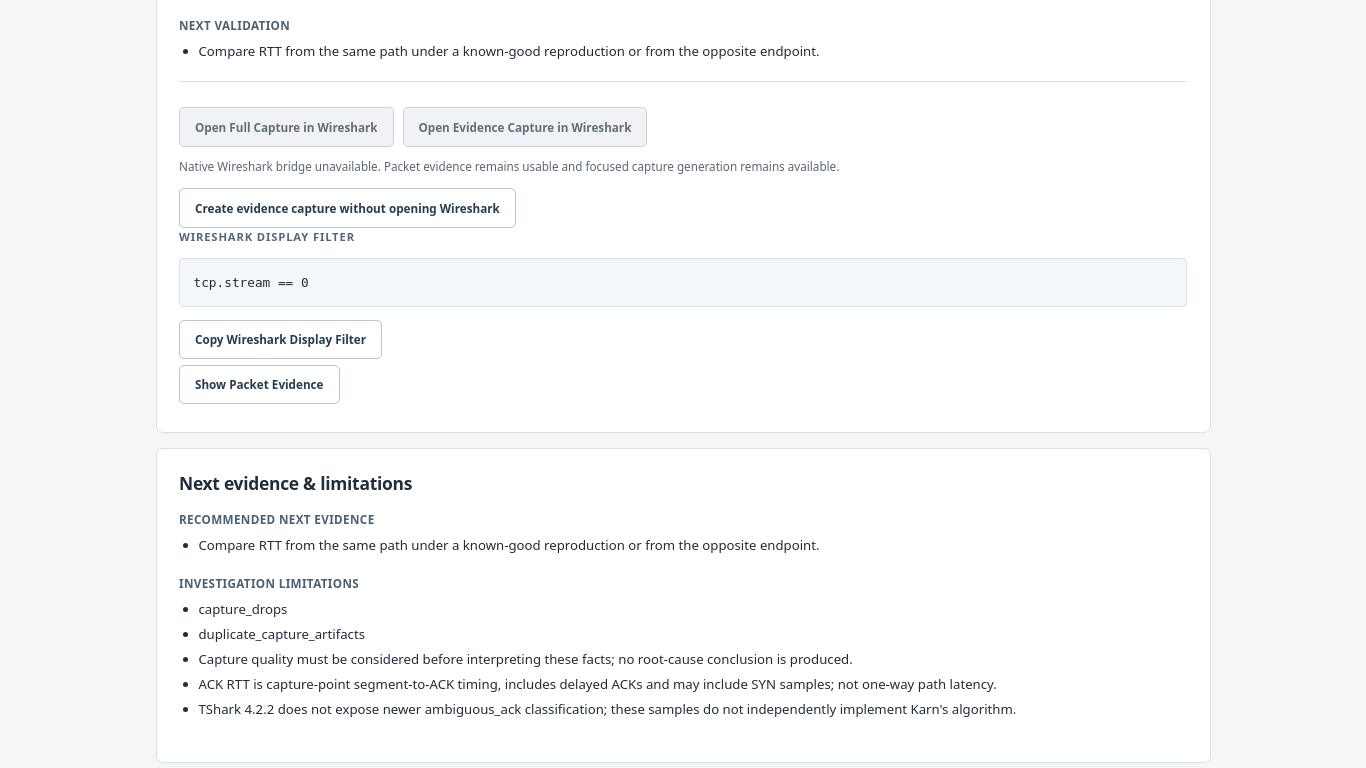
Test: evidence and uncertainty presentation › shows normalized evidence, tool version, and scope in a secondary drawer
(page scrolled)
Step 1. Click the button "Show Packet Evidence" → (259, 384), box left=179, top=364, right=340, bottom=404
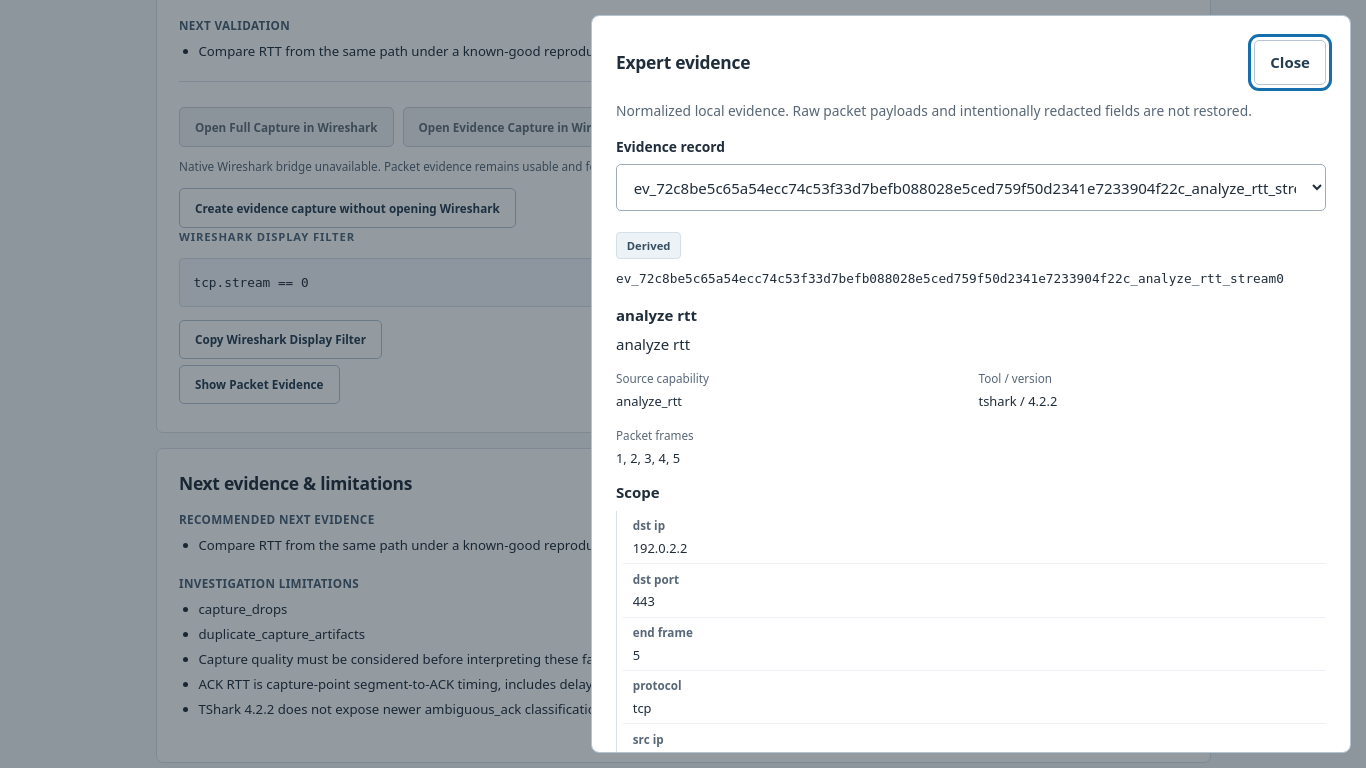
Expected: the text "Tool / version" is shown, left=978, top=370, right=1052, bottom=386
Expected: the heading "Scope" is shown, left=616, top=482, right=660, bottom=502
Step 2. Click the button with aria-label "Close expert evidence" → (1290, 62), box left=1254, top=40, right=1326, bottom=85
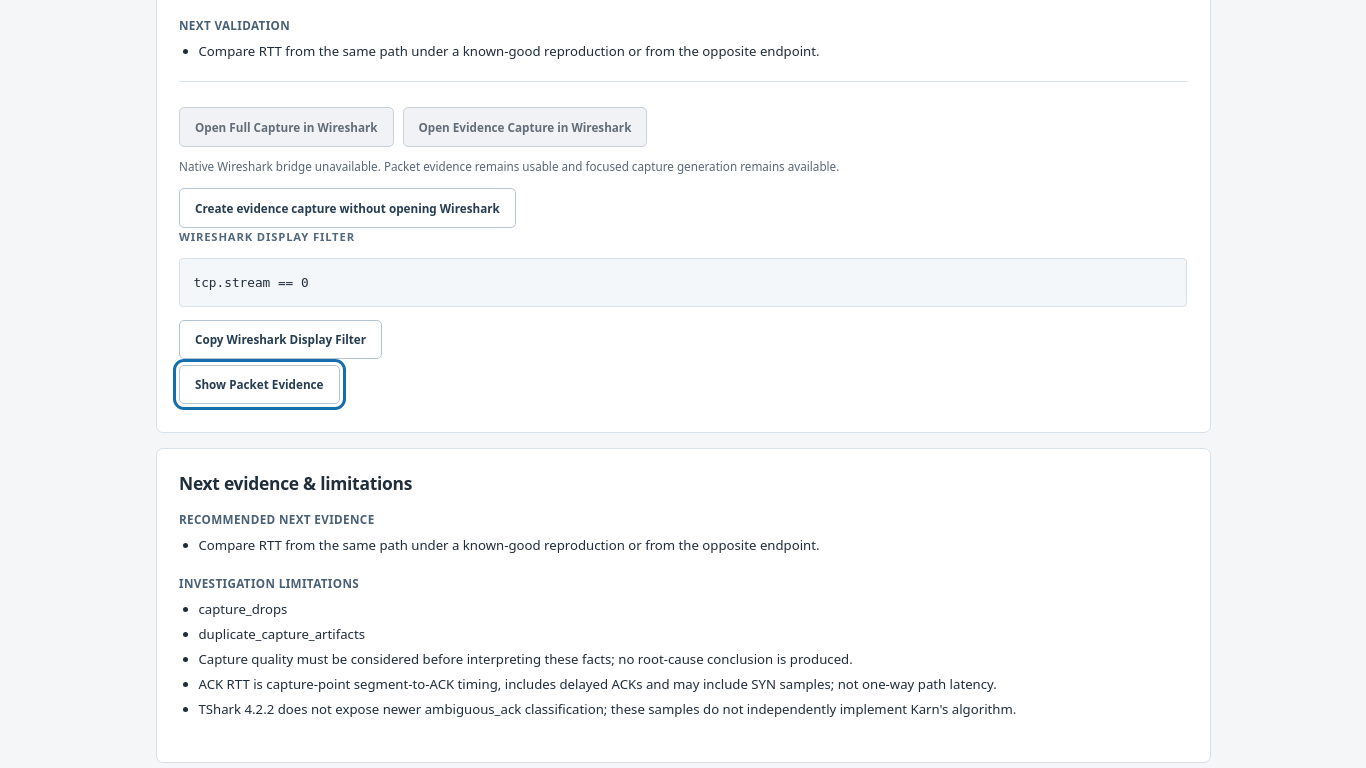
Expected: the dialog is gone
